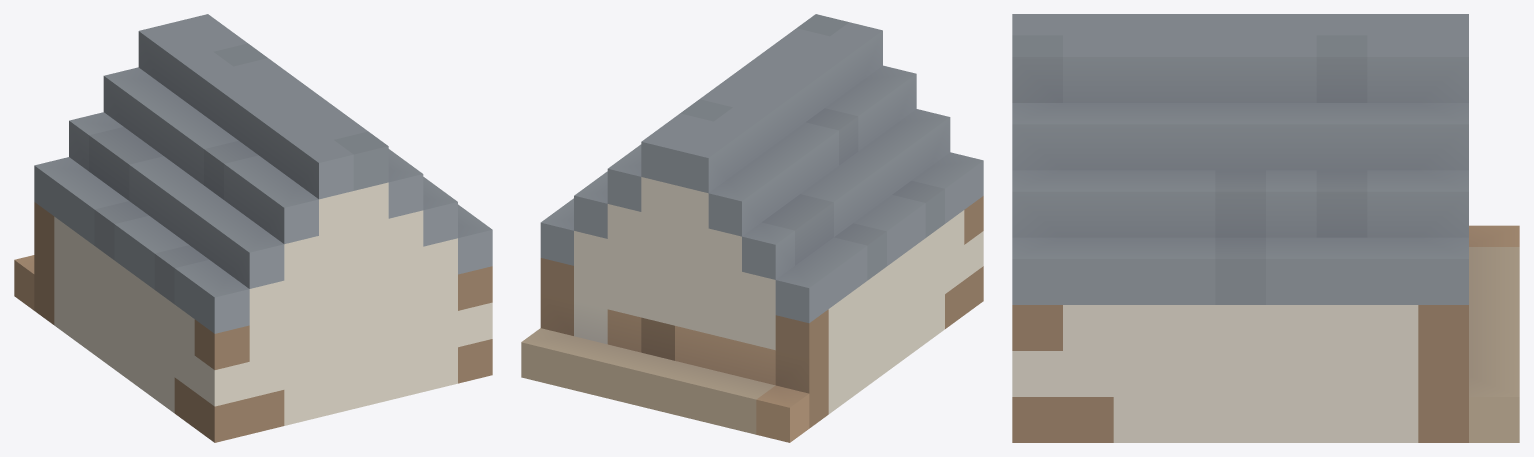
The model's file is tailor.lite.glb.
3 renders of one model, left to right at view 1: azimuth 30°, elevation 25°; view 2: azimuth 150°, elevation 25°; view 3: azimuth 270°, elevation 25°, orthographic. The views are drawn at different scales.
Visible parts, largest first — view 1: tailor; view 2: tailor; view 3: tailor.
Boxes of the visible parts, x1,y1,x2,y2 form: tailor: [14, 14, 492, 442]; tailor: [521, 14, 983, 442]; tailor: [1012, 14, 1519, 442].
Bounding box in the file's own units: 4 × 3.5 × 5.
